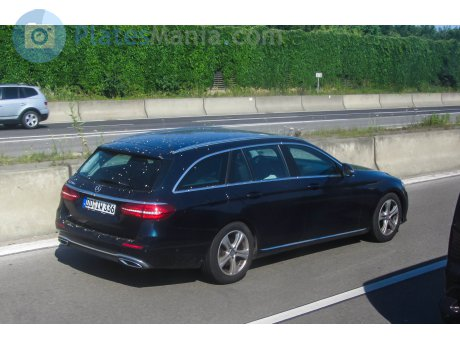License Plates: (79, 195, 118, 212)
